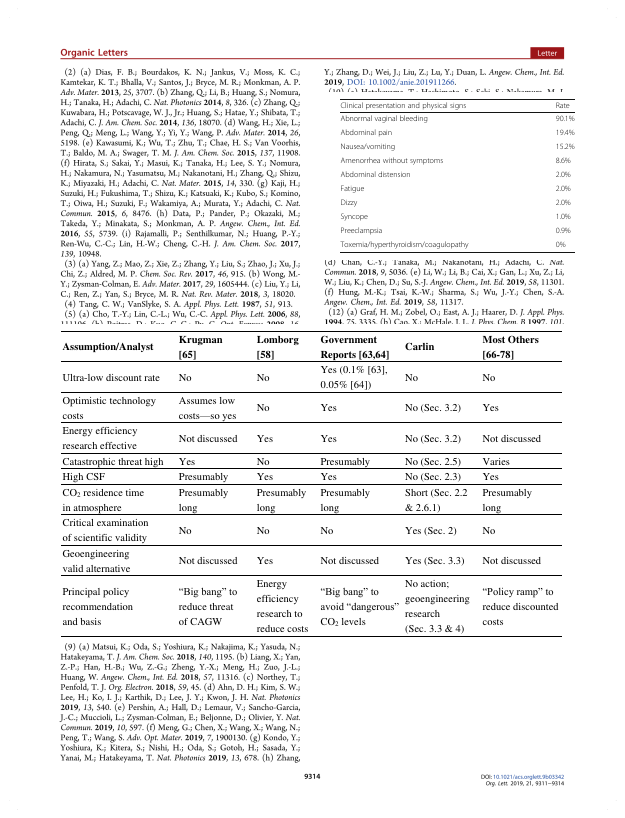borderless: (61, 329, 562, 636), (339, 97, 575, 252)
cell: (404, 577, 471, 636), (320, 583, 400, 629), (481, 583, 560, 628), (61, 585, 134, 628), (256, 577, 309, 636), (178, 583, 238, 628), (61, 394, 157, 422), (61, 516, 150, 545), (61, 486, 145, 514), (61, 424, 138, 453), (320, 332, 390, 361), (320, 363, 389, 392), (61, 547, 131, 575), (404, 486, 469, 514), (481, 332, 540, 361), (178, 394, 237, 423), (481, 486, 533, 514), (178, 486, 229, 514), (256, 486, 307, 514), (320, 486, 371, 514), (61, 455, 164, 468), (178, 332, 224, 361), (61, 340, 154, 354), (339, 240, 469, 250), (61, 371, 161, 384), (256, 332, 300, 361), (340, 101, 467, 110), (340, 156, 444, 166), (340, 114, 429, 124), (404, 554, 466, 568), (481, 554, 542, 568), (178, 554, 238, 568), (320, 554, 380, 568), (404, 401, 462, 415), (404, 470, 462, 484), (481, 432, 542, 445), (178, 432, 238, 445), (404, 432, 462, 445), (404, 455, 462, 468), (340, 170, 412, 180), (178, 470, 229, 484), (404, 524, 458, 537), (320, 455, 371, 468), (61, 470, 106, 484), (340, 142, 396, 152), (340, 128, 393, 138), (404, 340, 435, 354), (340, 226, 383, 236), (481, 455, 511, 468), (340, 212, 369, 222), (481, 401, 500, 415), (481, 470, 500, 484), (320, 401, 338, 415), (256, 470, 274, 484), (320, 470, 338, 484), (256, 554, 274, 568), (340, 184, 365, 194), (256, 432, 274, 445), (320, 432, 338, 445), (178, 455, 196, 468), (256, 401, 271, 415), (555, 114, 575, 124), (555, 128, 575, 138), (555, 142, 575, 152), (178, 371, 193, 384), (256, 371, 271, 384), (404, 371, 419, 384), (481, 371, 496, 384), (256, 455, 271, 468), (178, 524, 193, 537), (256, 524, 271, 537), (481, 524, 496, 537), (320, 524, 334, 537), (340, 198, 358, 208), (555, 156, 572, 166), (555, 170, 572, 180), (555, 184, 572, 194), (555, 198, 572, 208), (555, 212, 572, 222), (555, 226, 572, 236), (555, 101, 571, 110), (555, 240, 566, 250)
